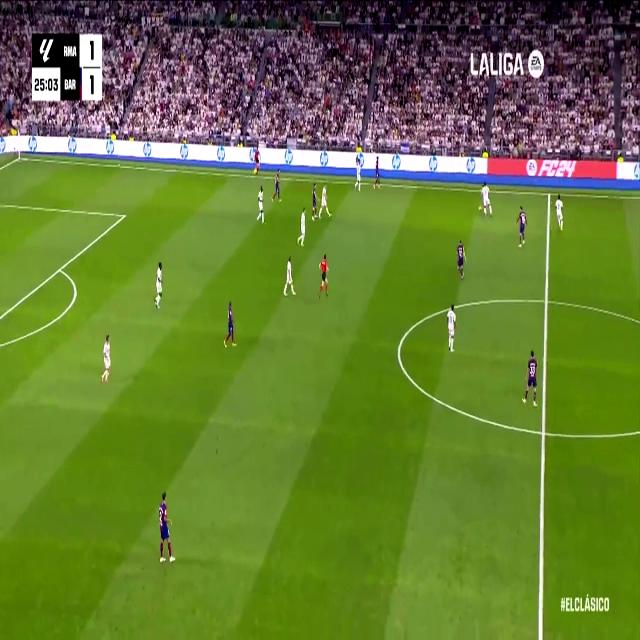bigarea_top_inner: (120, 208, 126, 222)
corner: (15, 152, 24, 162)
halfcircle_bottom: (538, 418, 550, 447)
halfcircle_top: (541, 287, 553, 314)
midline_top_intersection: (545, 187, 553, 201)
top_arc_area_intersection: (56, 260, 64, 277)
